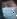with_mask: (2, 2, 17, 19)
